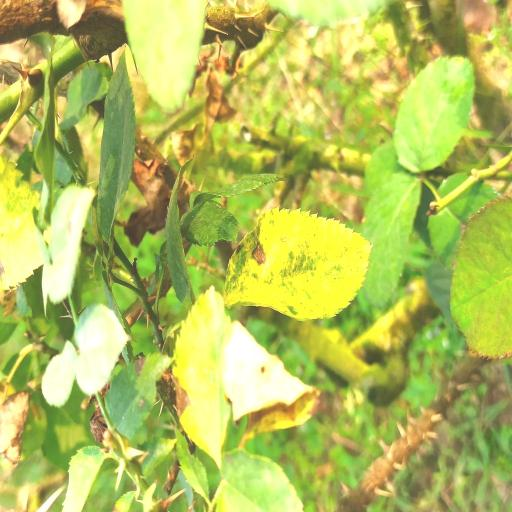healthy_leaf: (450, 197, 512, 358), (394, 56, 474, 173), (361, 173, 419, 306), (97, 56, 134, 241), (106, 353, 170, 440), (216, 450, 302, 512), (62, 446, 118, 512), (182, 200, 238, 245)
red_mite: (224, 208, 370, 320), (173, 287, 231, 466)
thrip: (221, 321, 318, 438)
